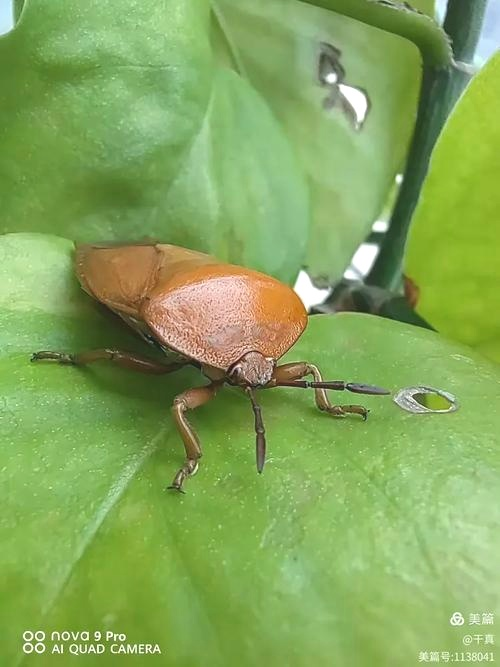Stink_Bug: (43, 213, 329, 410)
